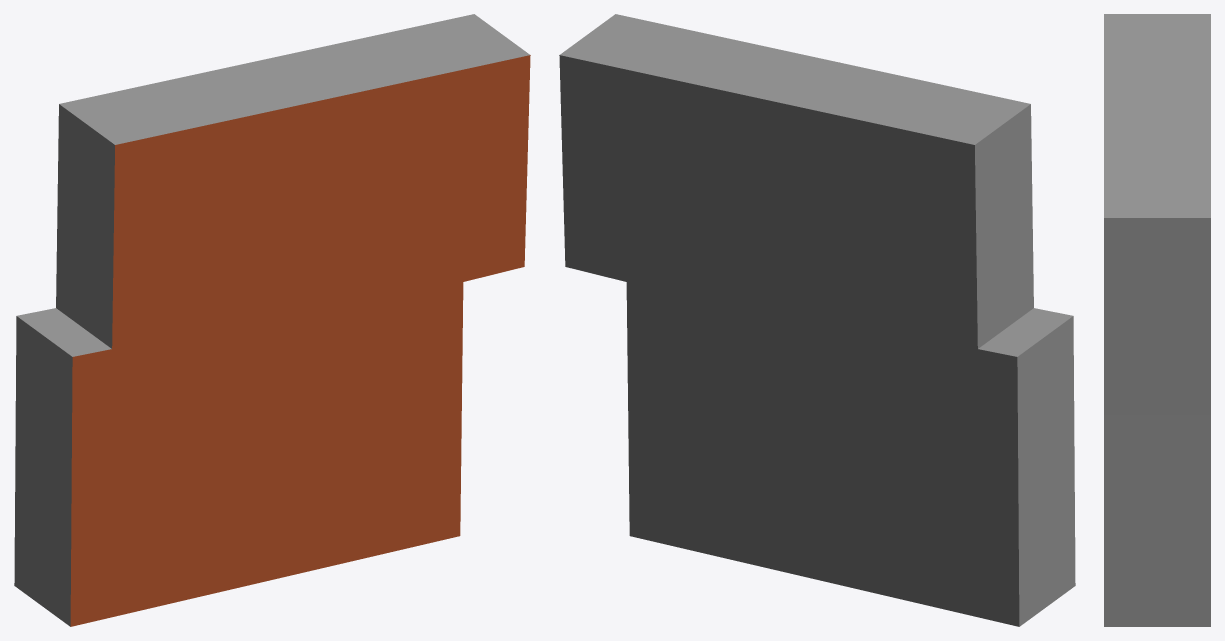
File: construction_2627_assumed_A_Casa_h6m.obj
3 renders of one model, left to right at view 1: azimuth 30°, elevation 25°; view 2: azimuth 150°, elevation 25°; view 3: azimuth 270°, elevation 25°, orthographic. The views are drawn at different scales.
Parts seen in each view (by area): view 1: construction_2627_assumed_A_Casa; view 2: construction_2627_assumed_A_Casa; view 3: construction_2627_assumed_A_Casa.
Boxes of the visible parts, x1=… form: construction_2627_assumed_A_Casa: x1=14, y1=14, x2=530, y2=626; construction_2627_assumed_A_Casa: x1=559, y1=14, x2=1075, y2=626; construction_2627_assumed_A_Casa: x1=1104, y1=14, x2=1210, y2=626.
Size of the model in its own units: 28.39 by 28.03 by 6.
